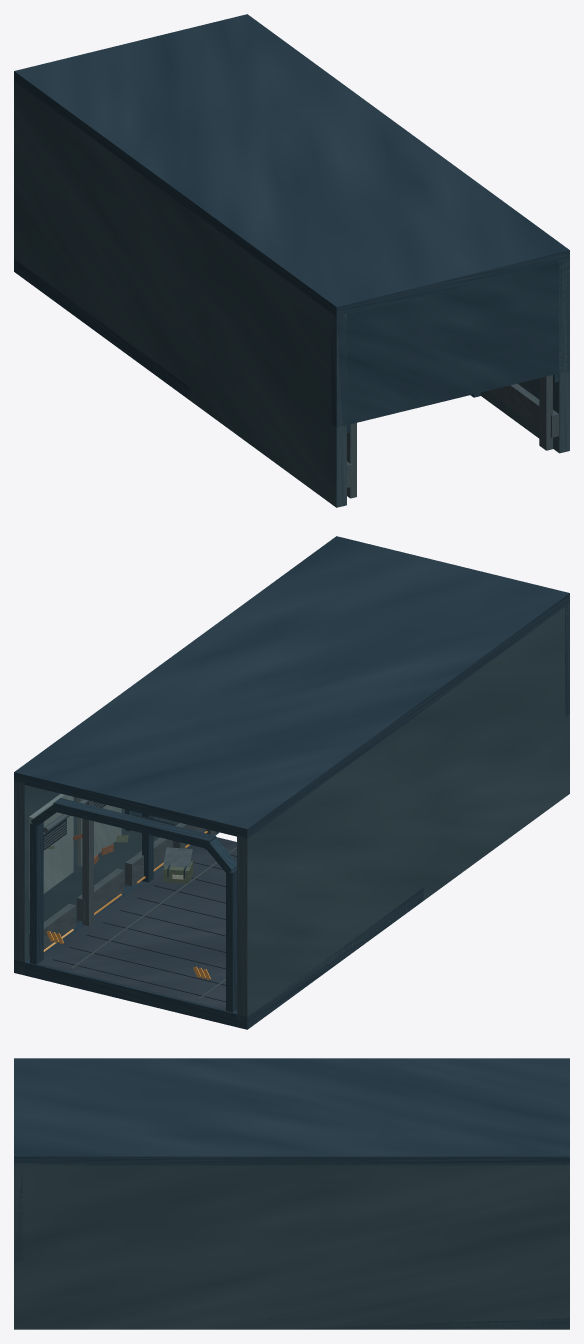
Rendered from Entrada_Abandonada.fbx.
3 views of the same model, one above another, from view 1: azimuth 30°, elevation 25°; view 2: azimuth 150°, elevation 25°; view 3: azimuth 270°, elevation 25° (orthographic). The views are drawn at different scales.
Parts seen in each view (by area): view 1: Casco de la entrada.001, Galería de acceso.001; view 2: Casco de la entrada.001, Galería de acceso.001, Deterioro de entrada.001; view 3: Casco de la entrada.001.
Boxes of the visible parts, x1=… form: Casco de la entrada.001: x1=14, y1=14, x2=569, y2=507; Galería de acceso.001: x1=347, y1=375, x2=558, y2=498; Casco de la entrada.001: x1=14, y1=536, x2=569, y2=1029; Galería de acceso.001: x1=29, y1=798, x2=236, y2=1012; Deterioro de entrada.001: x1=47, y1=834, x2=192, y2=883; Casco de la entrada.001: x1=14, y1=1058, x2=569, y2=1329.
Bounding box in the file's own units: 28 × 67 × 23.
2 materials, 2 textured.
